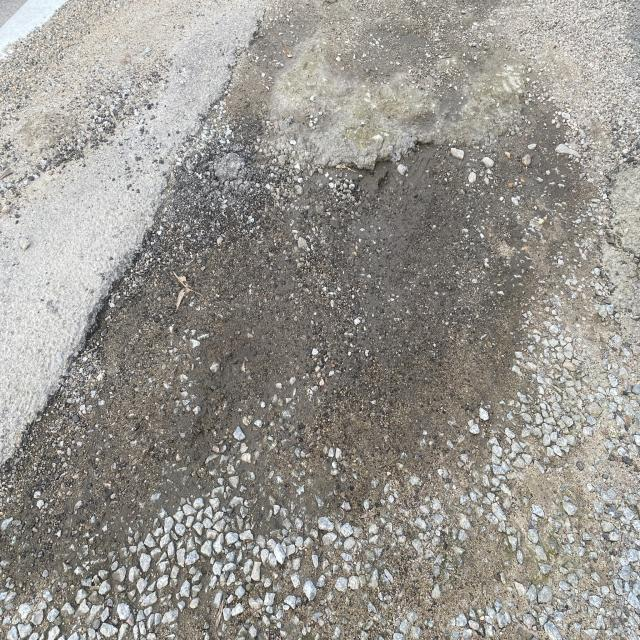Pothole: (174, 100, 498, 228), (44, 245, 207, 455)
